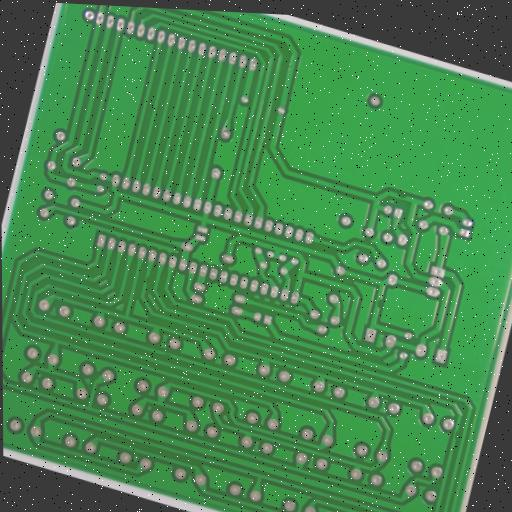mouse_bite: (448, 427, 464, 446), (159, 349, 178, 364), (394, 188, 412, 203), (372, 294, 386, 313), (140, 272, 154, 289)
